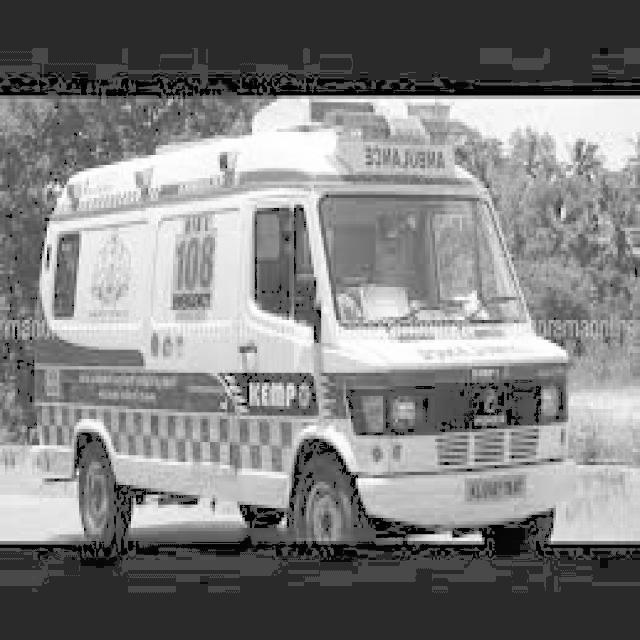LCV: (296, 113, 573, 534)
